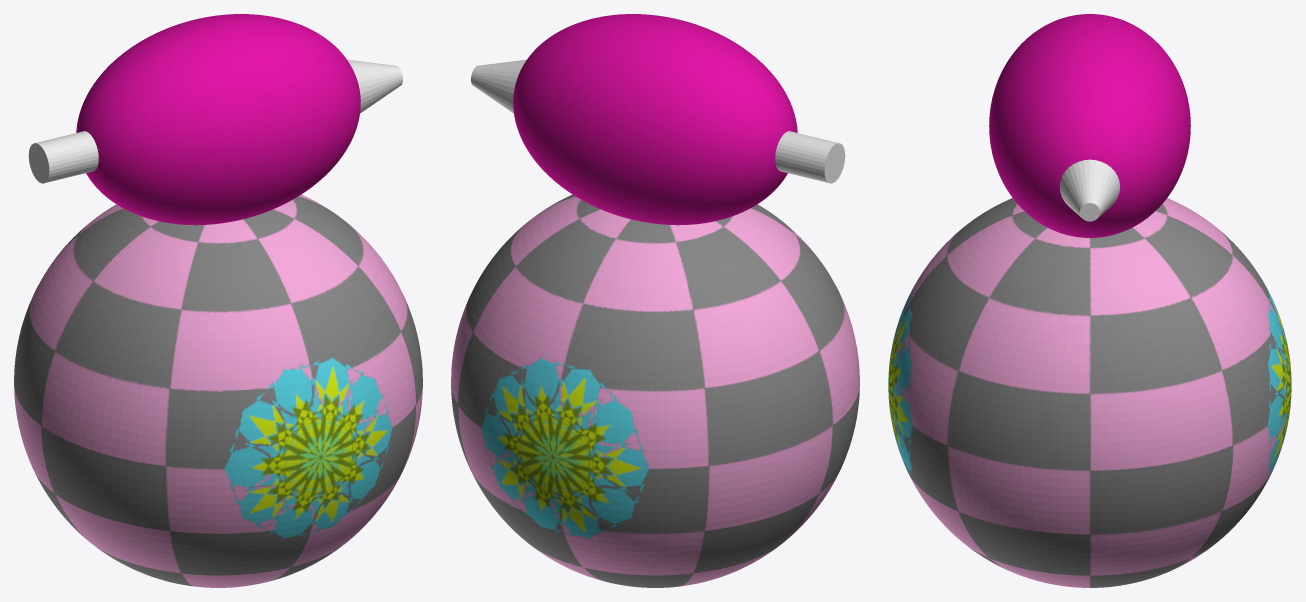
Rendered from BOD0_BMC0_BCC17_BPT4_FRC23_HEA1_HMC5_HCC10_HPT0_ELT1_ERT2_ELL0_ERL0_AP0_AAL2_AAR0_BEK0.fbx.
3 renders of one model, left to right at view 1: azimuth 30°, elevation 25°; view 2: azimuth 150°, elevation 25°; view 3: azimuth 270°, elevation 25°, orthographic.
Parts seen in each view (by area): view 1: Body, Ear, Ear.001; view 2: Body, Ear, Ear.001; view 3: Body, Ear.001.
Boxes of the visible parts, left/top/right/bottom form: Body: left=14, top=14, right=422, bottom=587; Ear: left=28, top=131, right=98, bottom=183; Ear.001: left=347, top=59, right=402, bottom=113; Body: left=451, top=14, right=859, bottom=587; Ear: left=775, top=131, right=845, bottom=183; Ear.001: left=471, top=59, right=526, bottom=113; Body: left=888, top=14, right=1291, bottom=587; Ear.001: left=1060, top=159, right=1119, bottom=221.
Size of the model in its own units: 50 by 72.41 by 49.36.
1 material, 1 textured.
